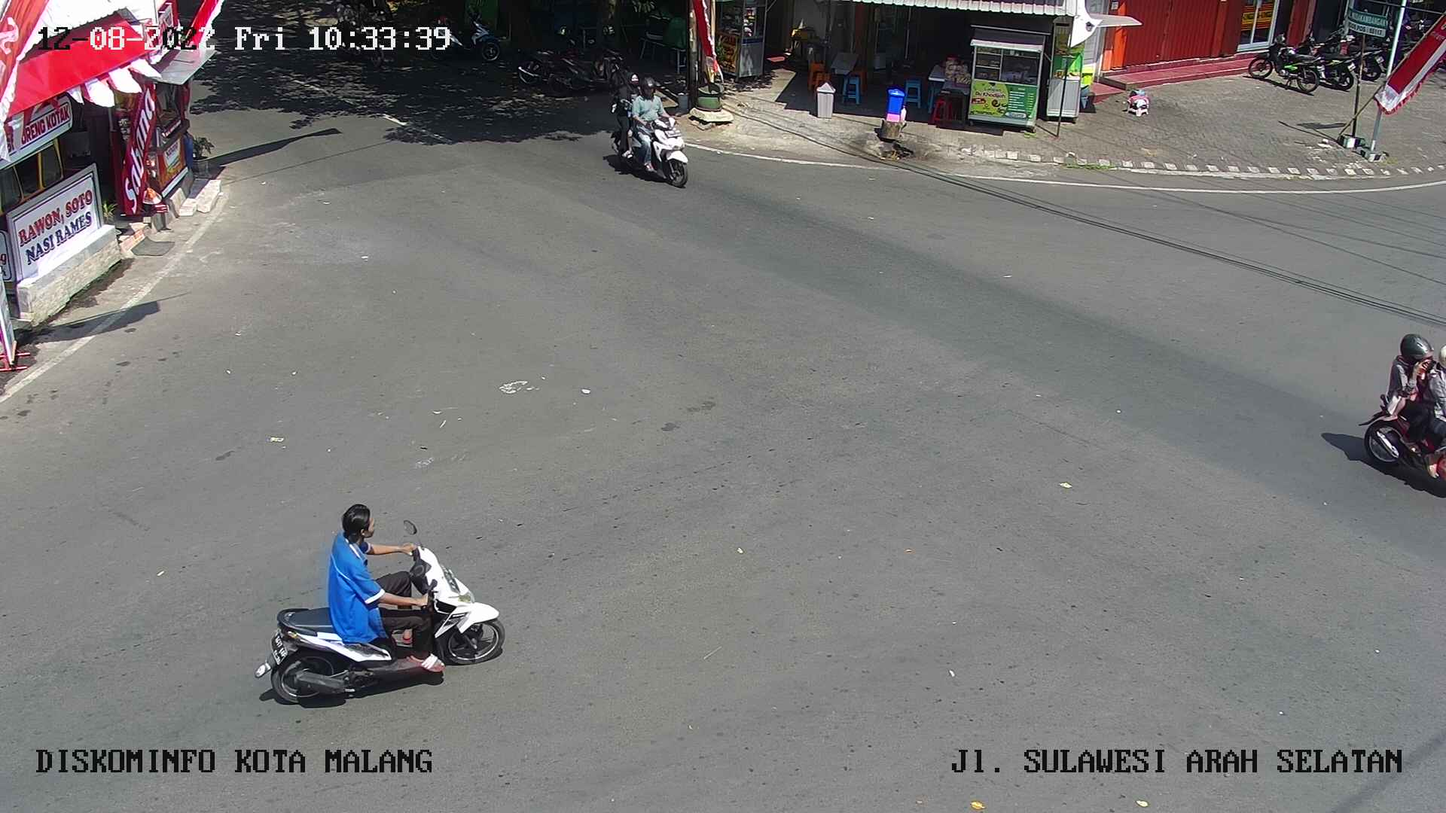without_helmet: (228, 490, 528, 708), (613, 71, 694, 189)
